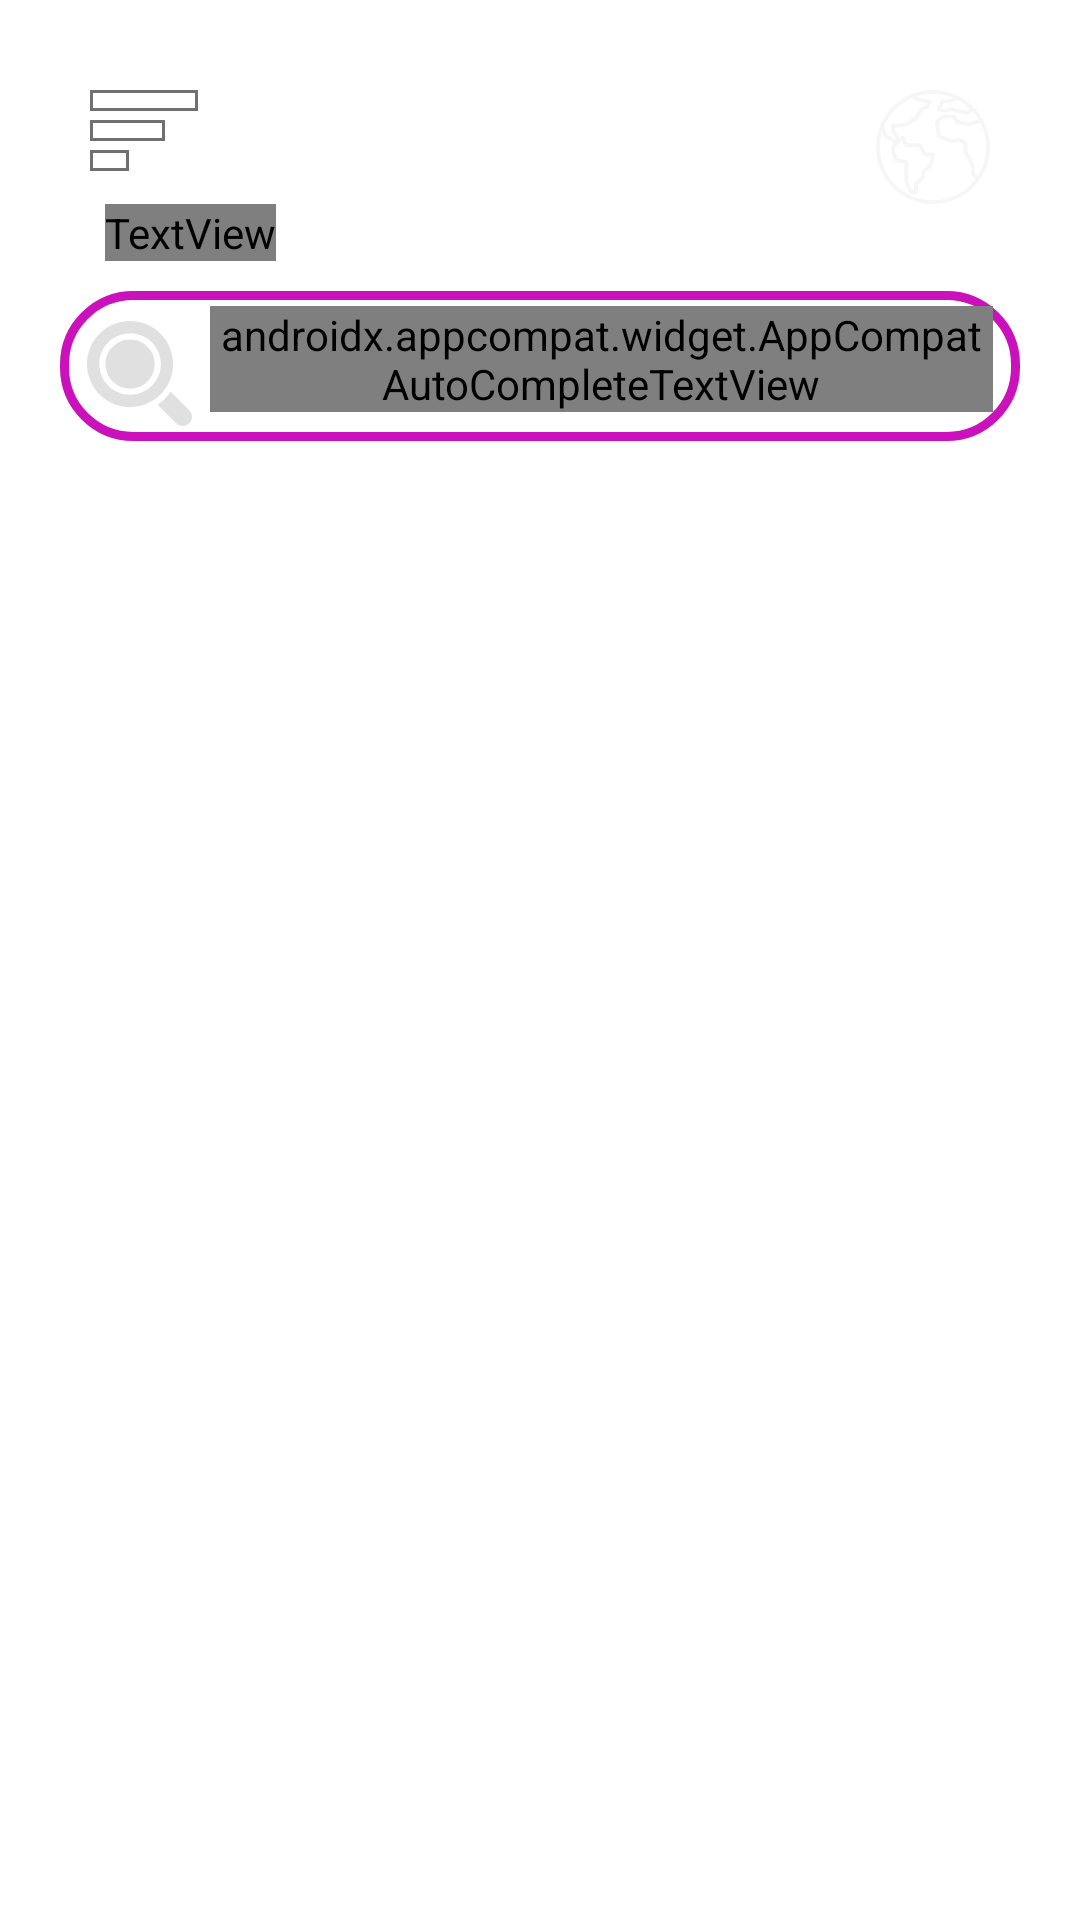

Named icons in this screenshot (1080 × 1920) and their bounding boxes, (x1, y1, x2, y2):
menubar: (90, 90, 198, 171)
